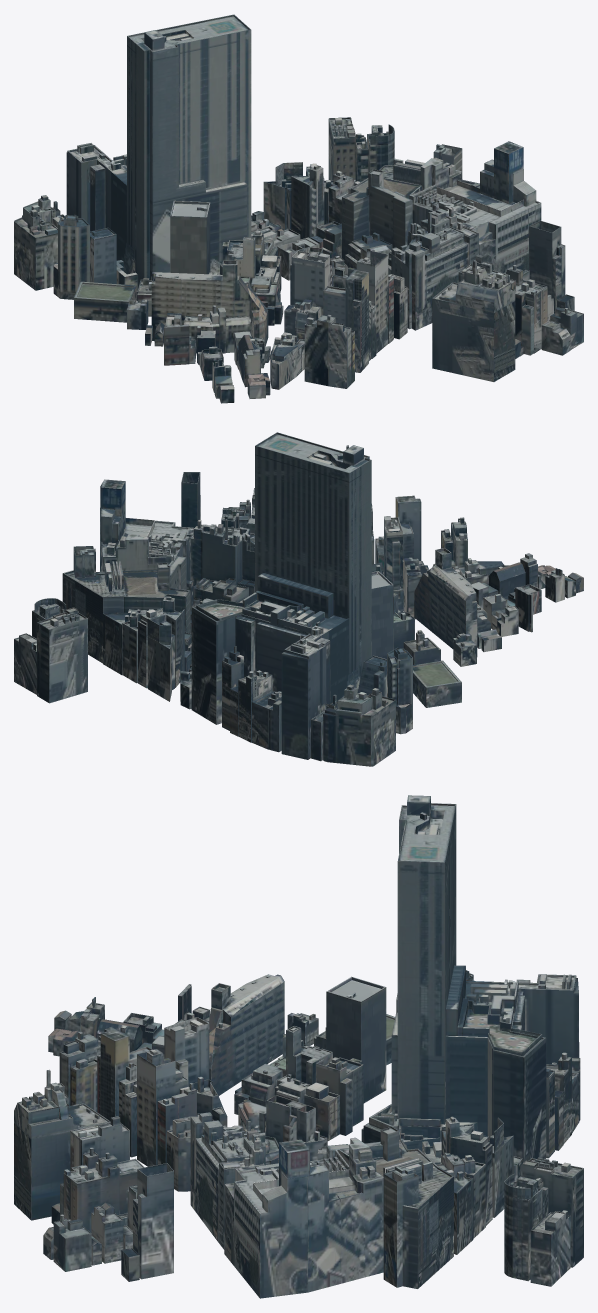
File: building_-2_-1.glb
The picture shows the model from 3 angles, top to bottom: view 1: azimuth 30°, elevation 25°; view 2: azimuth 150°, elevation 25°; view 3: azimuth 270°, elevation 25°; orthographic projection. The views are drawn at different scales.
Bounding box in the file's own units: 195 × 122 × 197.
Materials: 2 (1 with a texture image).
